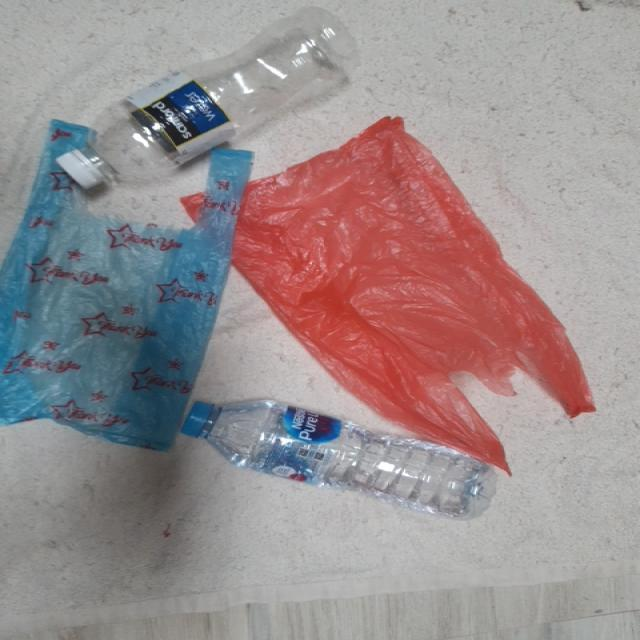Single-layer Plastic: (174, 101, 610, 487), (0, 114, 252, 455)
